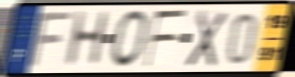0: (226, 11, 261, 66)
F: (26, 9, 76, 70), (143, 8, 190, 70)
H: (61, 9, 112, 70)
O: (109, 9, 152, 70)
X: (184, 8, 230, 69)
